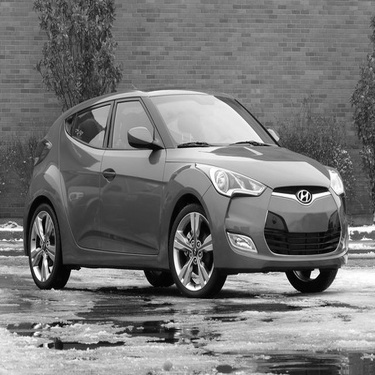car: (14, 84, 356, 293)
